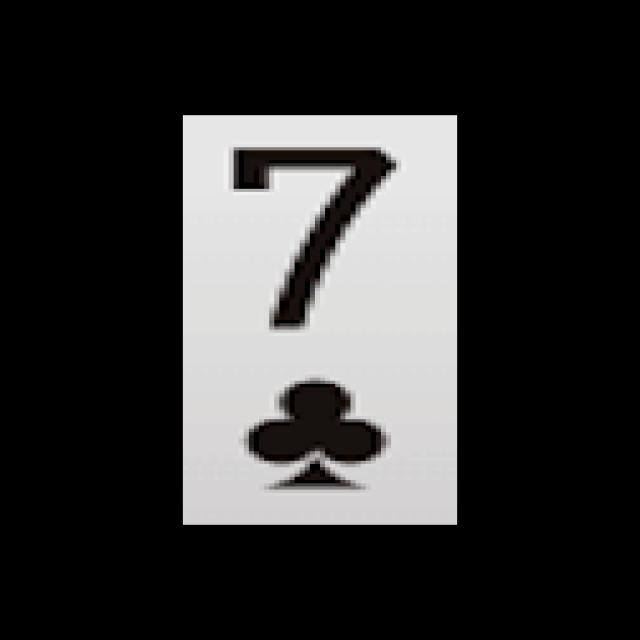7C: (199, 132, 427, 508)
